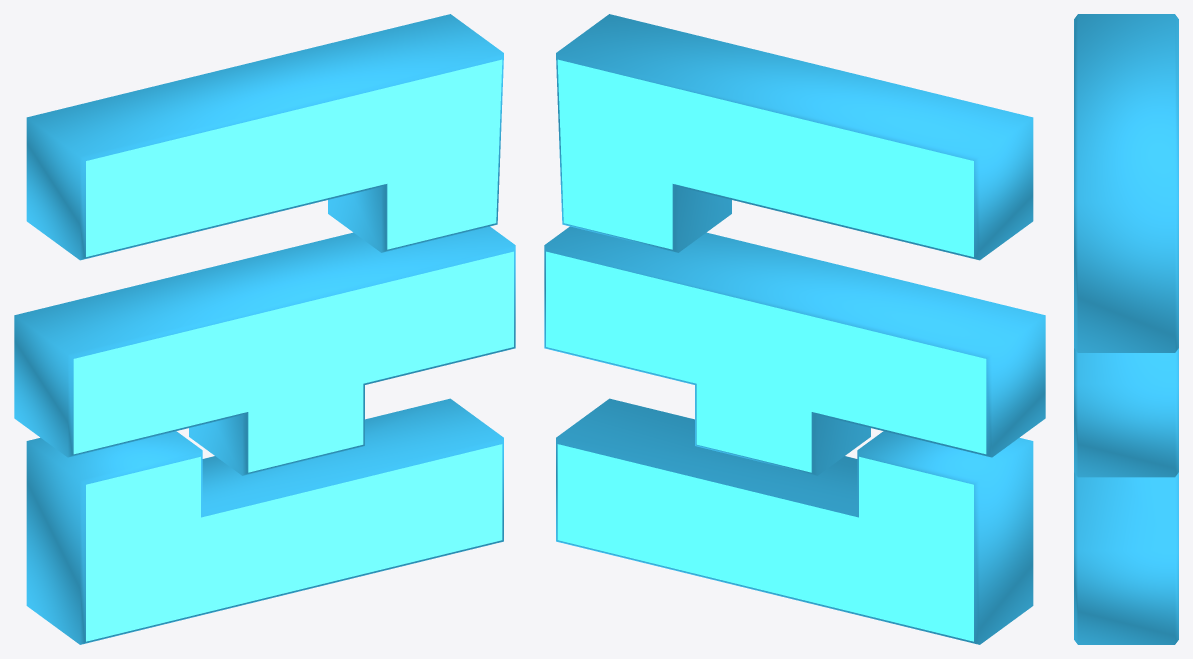
3 renders of one model, left to right at view 1: azimuth 30°, elevation 25°; view 2: azimuth 150°, elevation 25°; view 3: azimuth 270°, elevation 25°, orthographic. The views are drawn at different scales.
Visible parts, largest first — view 1: glyph; view 2: glyph; view 3: glyph.
Boxes of the visible parts, left/top/right/bottom form: glyph: left=14, top=14, right=515, bottom=644; glyph: left=544, top=14, right=1045, bottom=644; glyph: left=1074, top=14, right=1178, bottom=644.
Bounding box in the file's own units: 0.0725 × 0.0756 × 0.0162.
